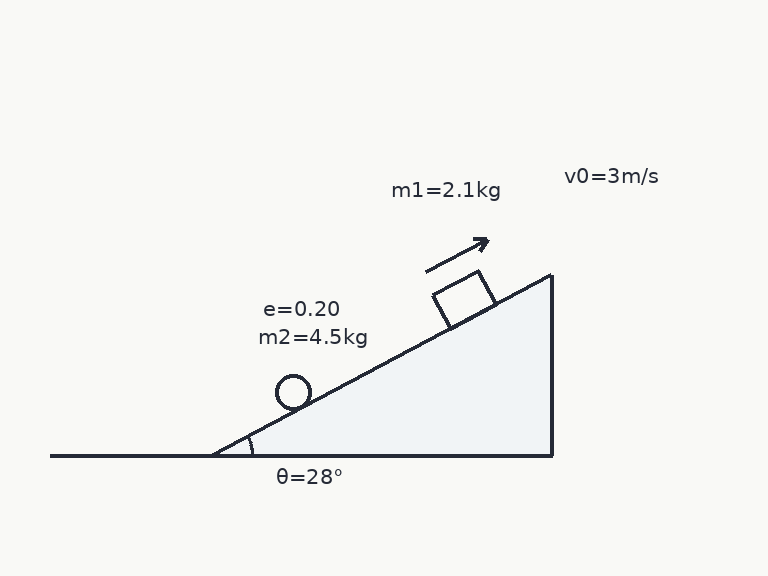ball: (273, 372, 313, 412)
block: (431, 269, 498, 330)
ramp: (210, 273, 553, 457)
